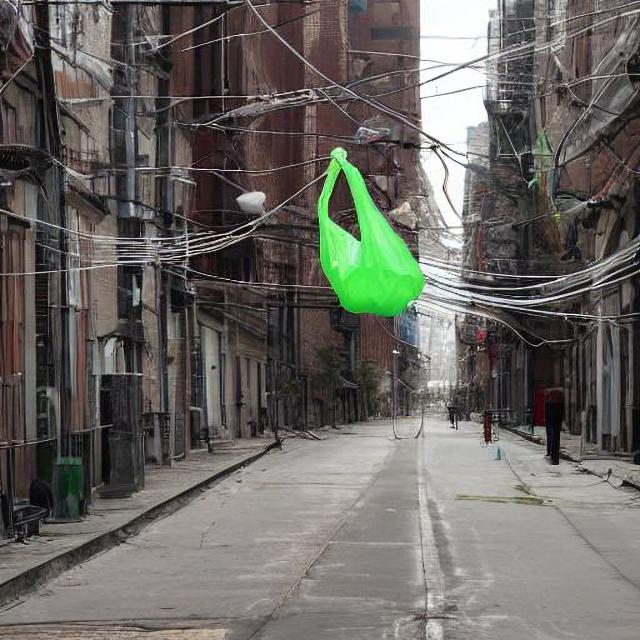plastic bag: (314, 146, 423, 314)
